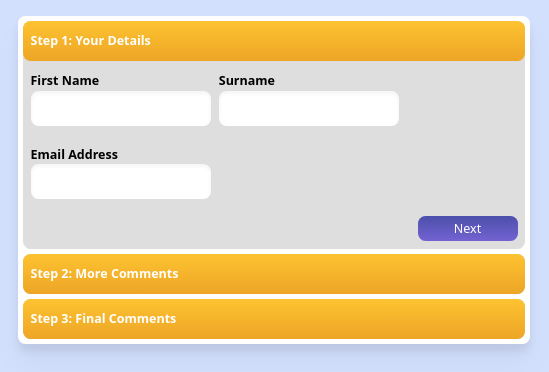
Test: <Form/> › Other Sections › Click on Section 2
Click the button "Step 2: More comments". click: point(104, 274)
box: top-left (23, 254), bottom-right (525, 294)
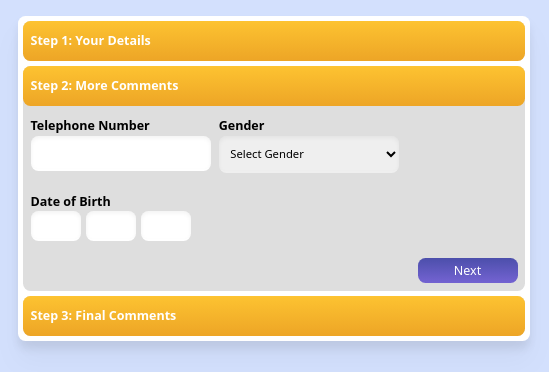
Expected: the field with test id "telephone-number" is empty, top-left (30, 136), bottom-right (210, 170)
Expected: the dropdown with test id "gender" shows "Select Gender", top-left (219, 136), bottom-right (399, 172)
Expected: the number field with test id "day" is not empty, top-left (30, 211), bottom-right (80, 241)
Click the button "Next". click: point(468, 271)
box: top-left (418, 258), bottom-right (518, 283)
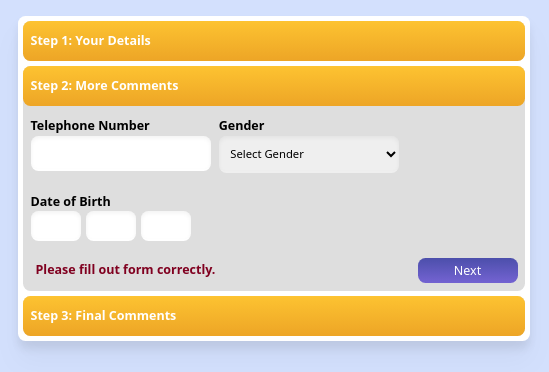
Expected: the text "Please fill out form correctly." is shown, top-left (36, 261), bottom-right (215, 278)
